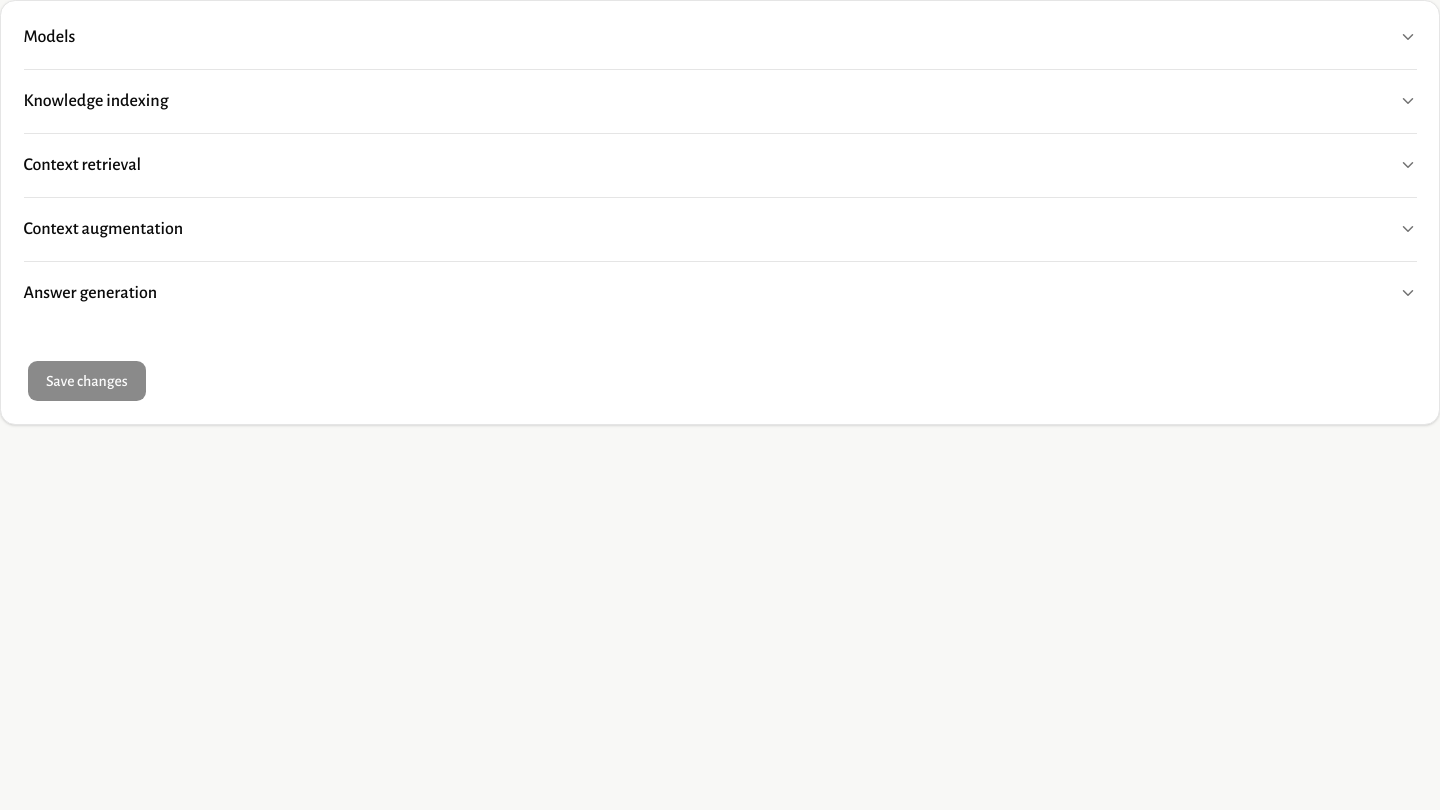
Test: ProjectDefaultsForm › should disable save button after discarding changes
Click the button "Context retrieval": coordinates (82, 164) [24,134,1416,196]
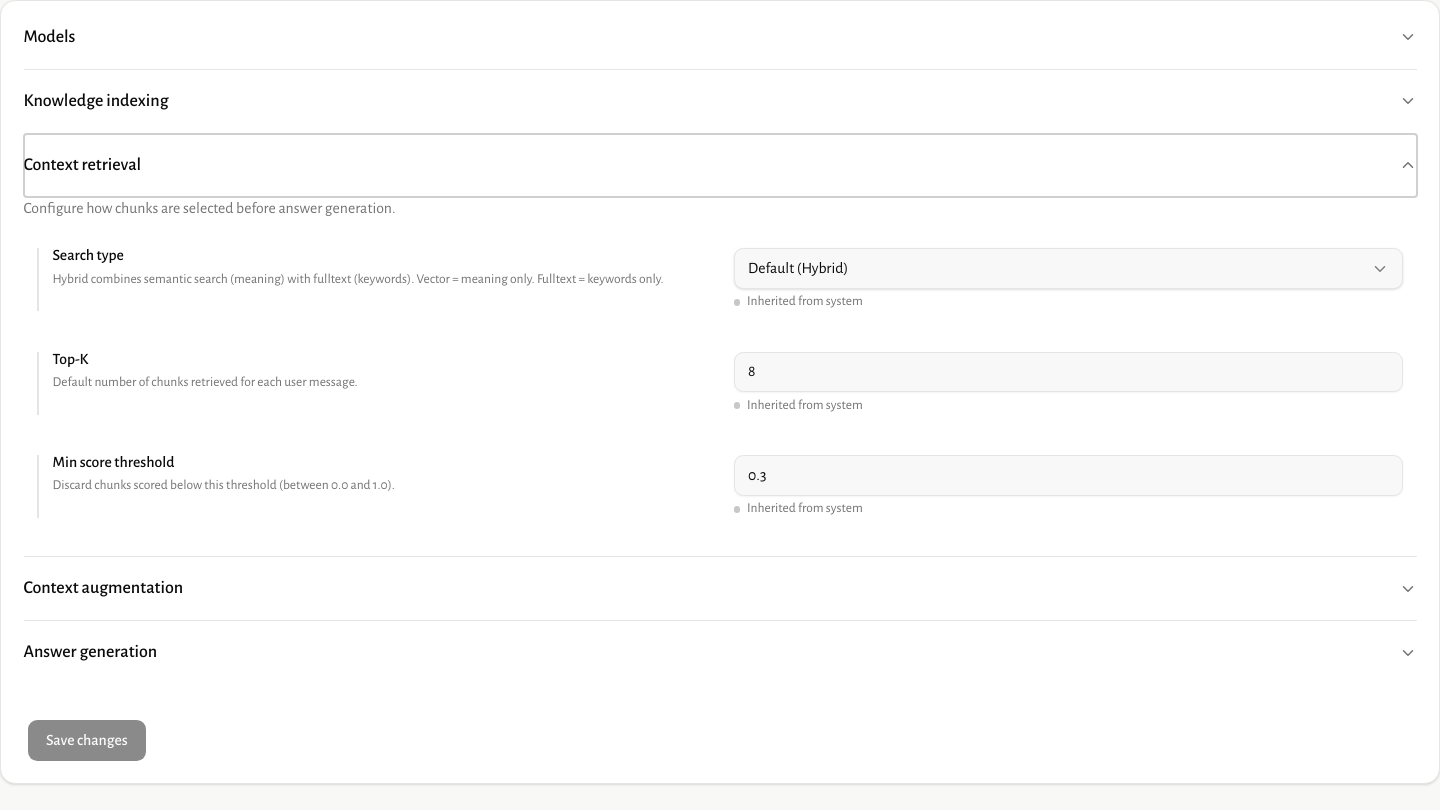
Replace the text in the number field labelled "Top-K" with "5": coordinates (1068, 372) [734,352,1403,392]
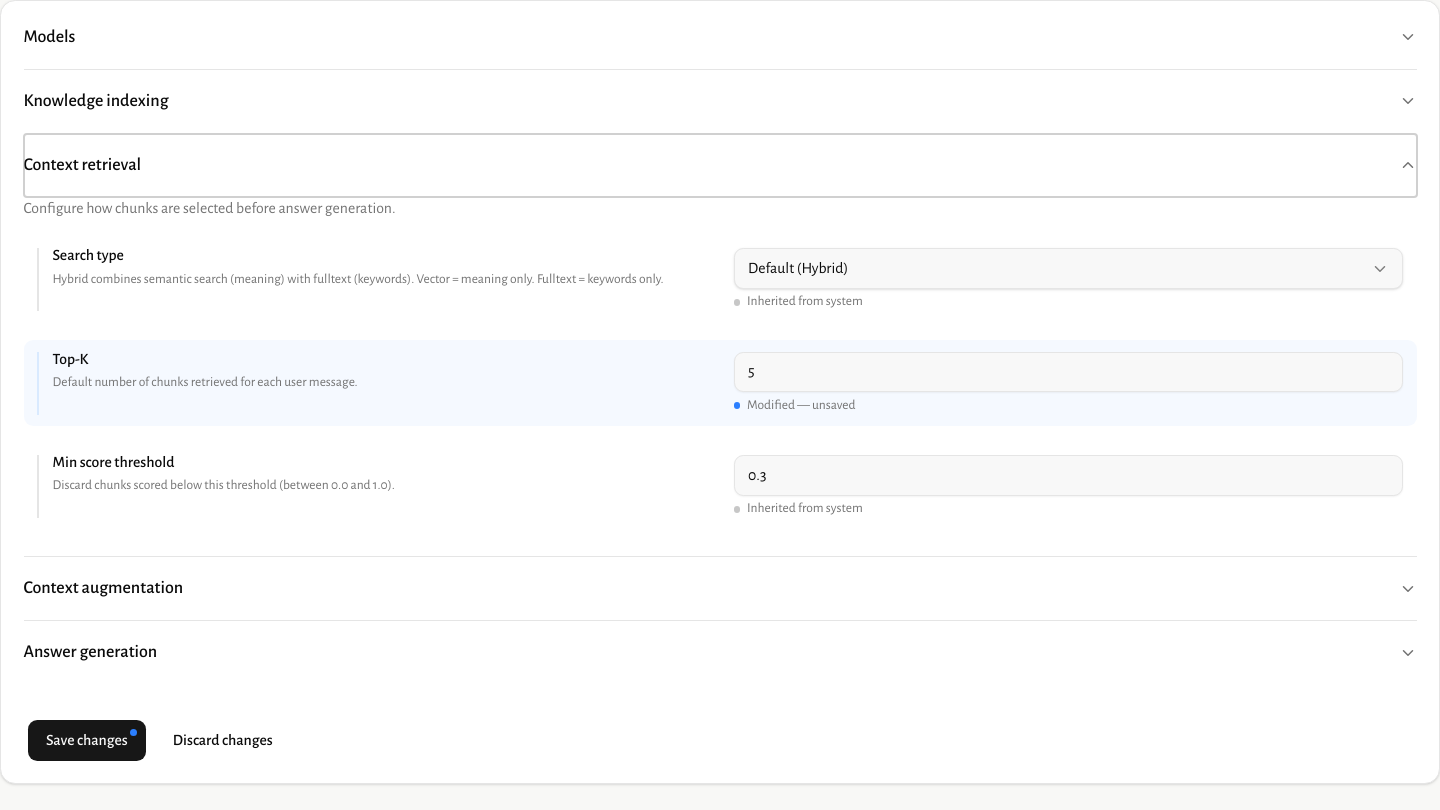
Now the button "Save changes" is enabled, box [28,720,146,761]
Click the button "Discard changes": coordinates (223, 741) [155,720,291,761]
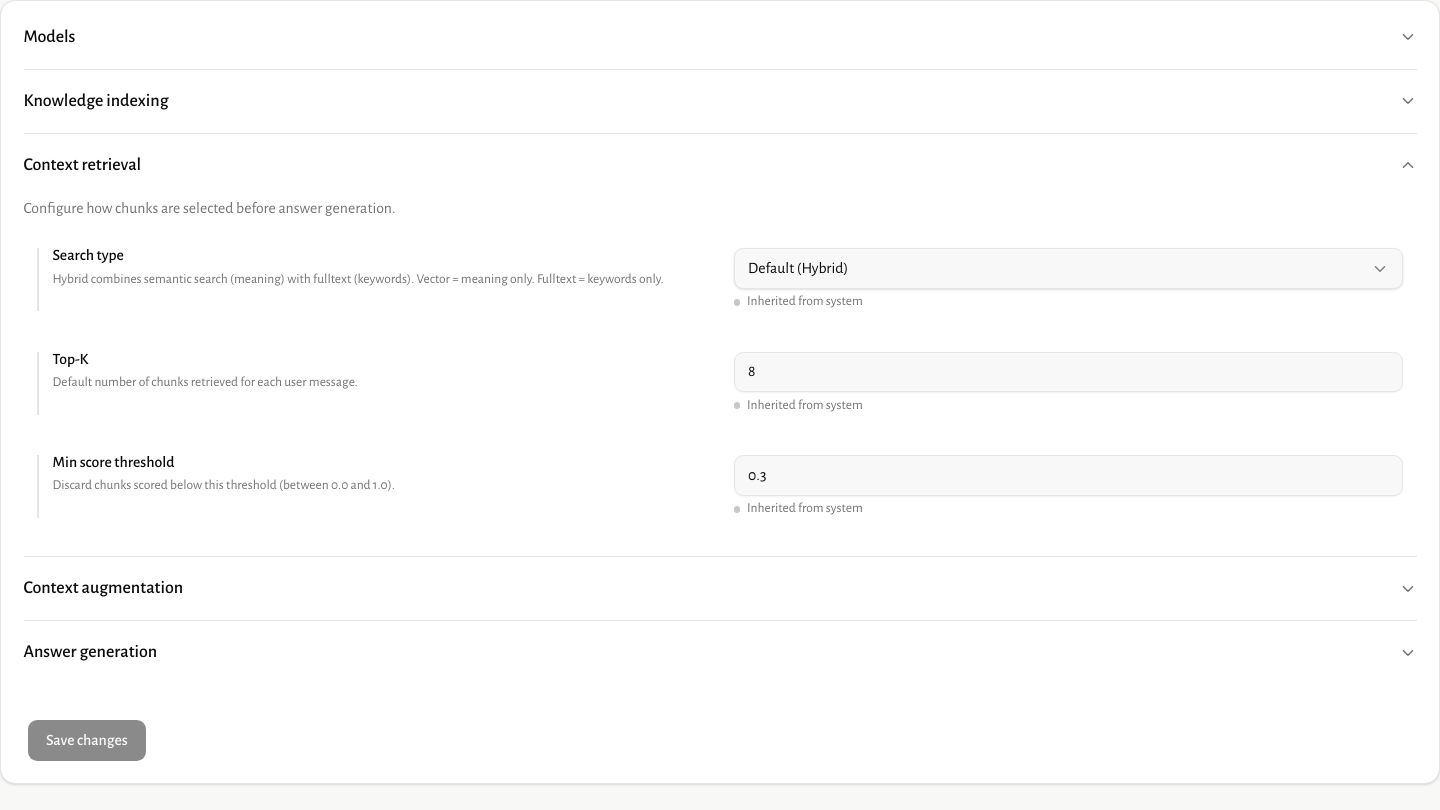
Now the button "Save changes" is disabled, box [28,720,146,761]
